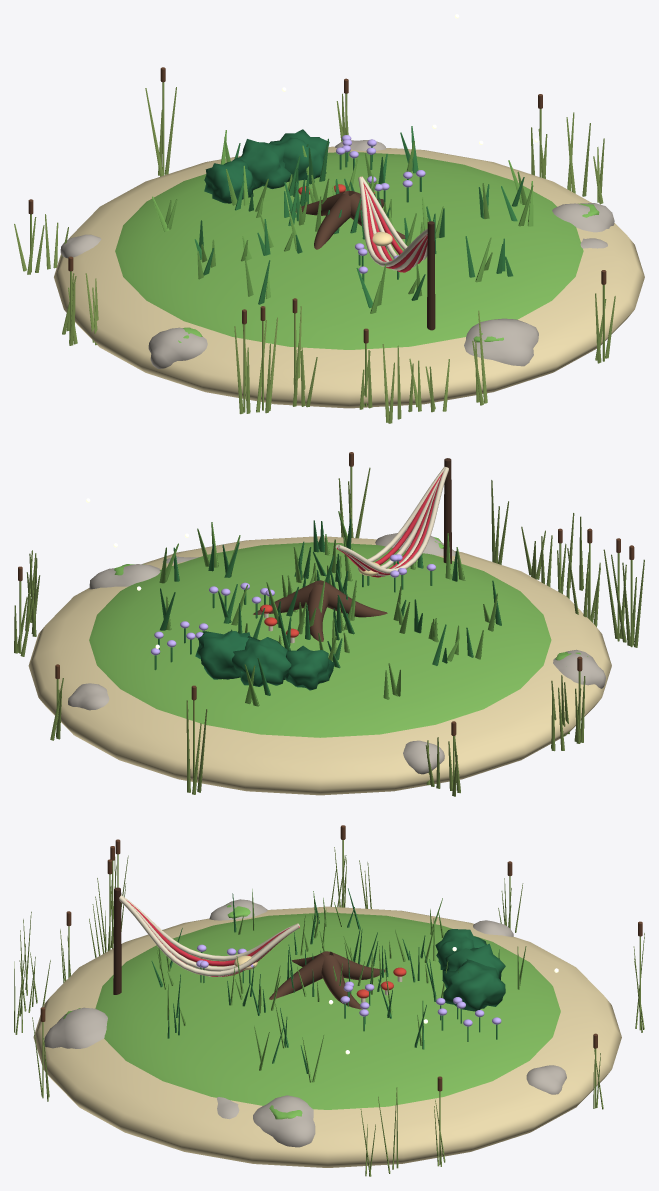
The model's file is islet_05.glb.
3 renders of one model, top to bottom at view 1: azimuth 30°, elevation 25°; view 2: azimuth 150°, elevation 25°; view 3: azimuth 270°, elevation 25°, orthographic.
Visible parts, largest first — view 1: islet_grass.005, islet_sand.005, rock.032, bush.016, rock.034, bush.015, bush.017, rock.030, root.022, hammock_post, hammock, rock.031; view 2: islet_grass.005, islet_sand.005, bush.016, bush.015, bush.017, rock.034, rock.030, hammock, rock.031, rock.033, root.021, root.022 (+5 smaller); view 3: islet_grass.005, islet_sand.005, bush.015, rock.030, rock.032, hammock.006, bush.017, bush.016, root.023, rock.033, hammock_post, root.020 (+5 smaller).
Part boxes in pixels (box(x1,y1,x2,y2)): islet_grass.005: box(115, 151, 583, 349); islet_sand.005: box(54, 146, 644, 408); rock.032: box(464, 318, 538, 366); bush.016: box(232, 139, 290, 189); rock.034: box(148, 327, 207, 368); bush.015: box(270, 129, 329, 181); bush.017: box(204, 159, 255, 203); rock.030: box(552, 203, 614, 232); root.022: box(314, 194, 351, 249); hammock_post: box(427, 221, 435, 330); hammock: box(358, 176, 427, 266); rock.031: box(60, 234, 101, 258); islet_grass.005: box(89, 542, 551, 737); islet_sand.005: box(28, 536, 611, 795); bush.016: box(232, 636, 291, 686); bush.015: box(195, 631, 251, 679); bush.017: box(284, 645, 334, 690); rock.034: box(553, 649, 605, 688); rock.030: box(89, 564, 160, 589); hammock: box(338, 467, 448, 573); rock.031: box(403, 740, 444, 774); rock.033: box(68, 683, 109, 710); root.021: box(307, 584, 328, 641); root.022: box(324, 582, 387, 617); islet_grass.005: box(95, 912, 560, 1109); islet_sand.005: box(33, 906, 621, 1167); bush.015: box(442, 959, 505, 1011); rock.030: box(253, 1095, 315, 1147); rock.032: box(44, 1007, 107, 1048); hammock.006: box(119, 895, 299, 976); bush.017: box(435, 929, 486, 969); bush.016: box(442, 943, 505, 979); root.023: box(269, 953, 326, 999); rock.033: box(526, 1065, 566, 1094); hammock_post: box(113, 887, 121, 994); root.020: box(321, 955, 362, 1009).
Size of the model in its own units: 8.54 by 3.24 by 8.58.
